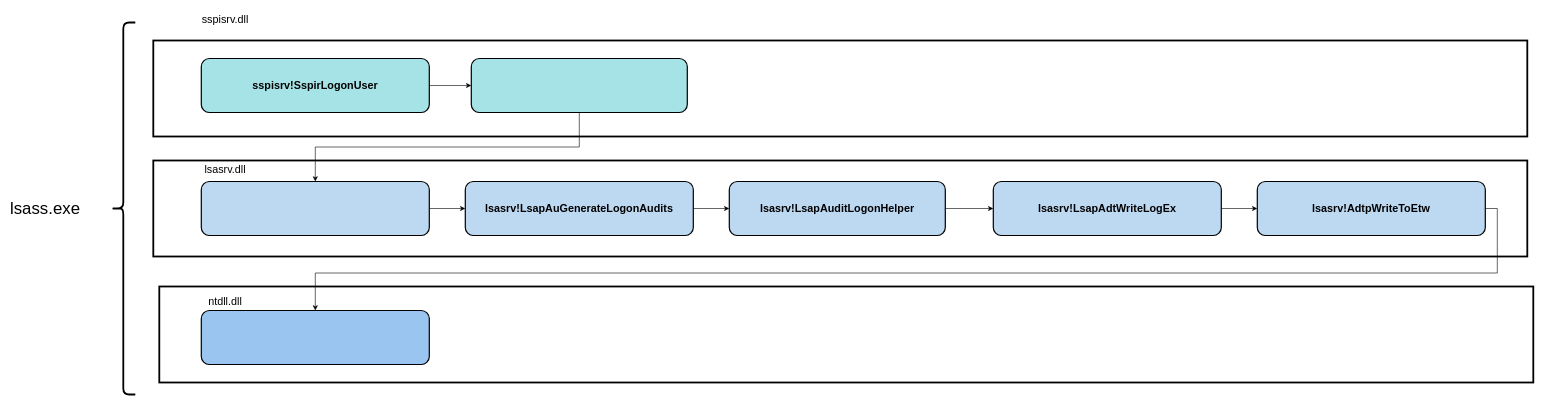
Image size: 1544x406. Some labels were removed from this diagram. The shapes that lost their labels are listed below. From the top down, each one's centre as x and y in pixels, then its label:
the point at 579,85: sspisrv!SspiExLogonUser
the point at 315,208: lsasrv!LsapAuApiDispatchLogonUser
the point at 315,337: ntdll!EtwWriteUMSecurityEvent
